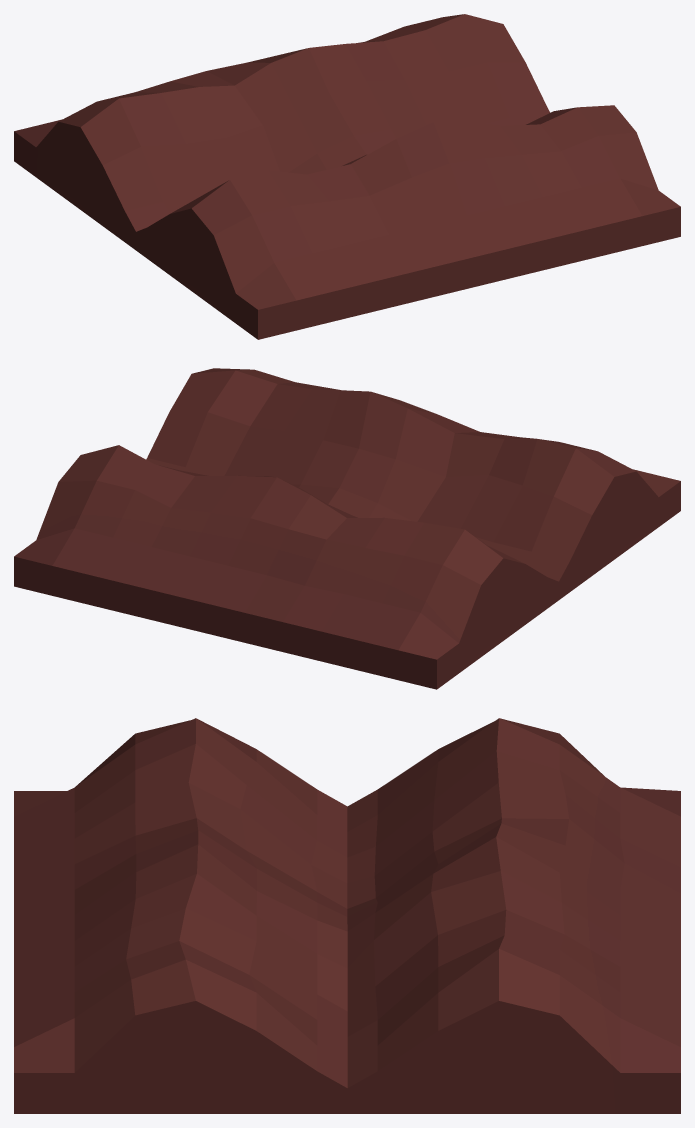
Rendered from Grond W Omgeploegd.fbx.
3 renders of one model, top to bottom at view 1: azimuth 30°, elevation 25°; view 2: azimuth 150°, elevation 25°; view 3: azimuth 270°, elevation 25°, orthographic. The views are drawn at different scales.
Parts seen in each view (by area): view 1: tilted ground.003; view 2: tilted ground.003; view 3: tilted ground.003.
Part boxes in pixels (x1,y1,x2,y2): tilted ground.003: (14, 14, 680, 339); tilted ground.003: (14, 368, 680, 689); tilted ground.003: (14, 718, 680, 1113).
Bounding box in the file's own units: 2 × 0.4951 × 2.
